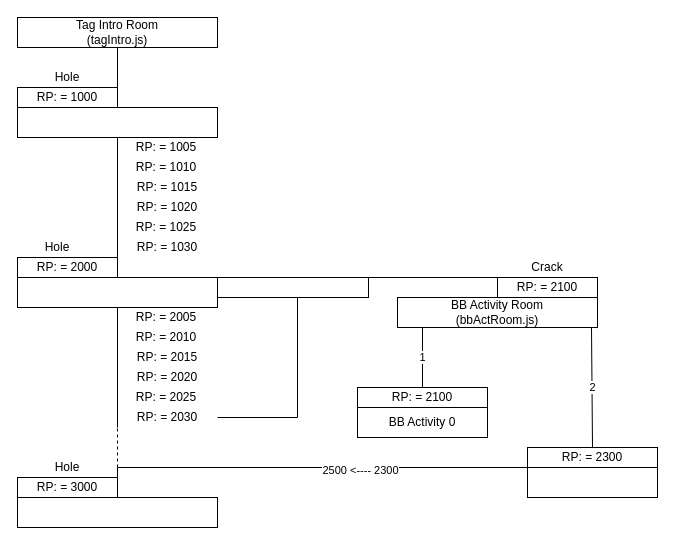
Some shapes in this 675 by 545 pixel diagram are drawn without their labels. Here are the shapes that lost their labels. From the top down, the box of each, then its label:
(16, 106, 218, 138): Course Intro Room (courseIntro.js)
(16, 276, 218, 308): Building Blocks Room (buildingBlocks.js)
(216, 276, 368, 298): RP: = 2030 -> 2100
(526, 466, 658, 498): BB Activity 2
(16, 496, 218, 528): Account Equation Room
